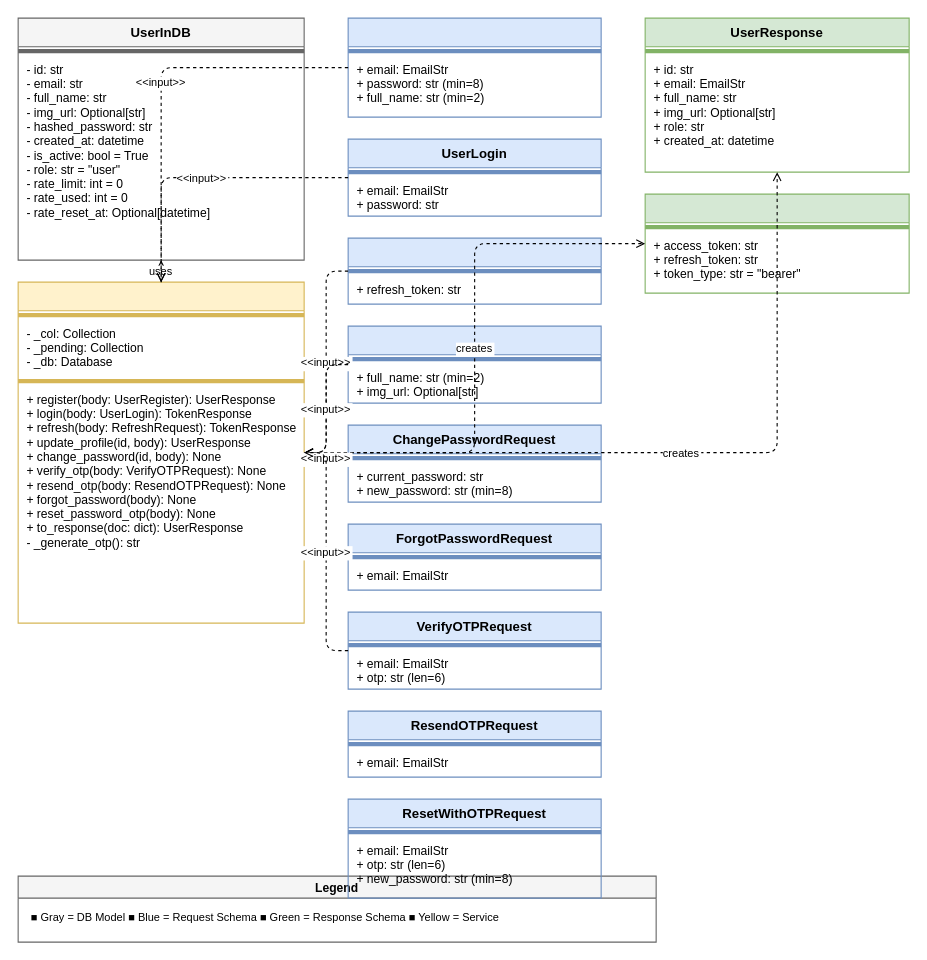
The diagram is 927 pixels wide and 960 high, and some of its shapes have lost their labels. Here are the shapes that lost their labels. From the top down, the box of each, then its label:
(347, 17, 601, 117): UserRegister
(644, 193, 909, 293): TokenResponse
(347, 237, 601, 304): RefreshRequest
(347, 325, 601, 403): UpdateProfileRequest
(17, 281, 304, 623): AuthService
